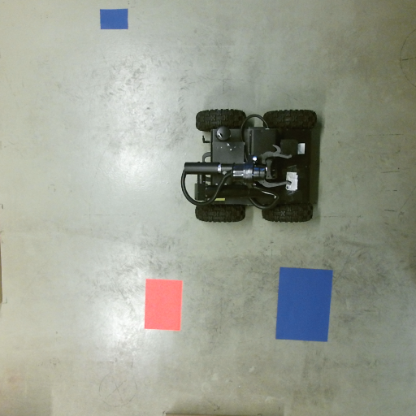Blue: (276, 266, 333, 342), (99, 7, 129, 31)
Jaguar: (179, 106, 315, 225)
Red: (144, 277, 184, 332)
